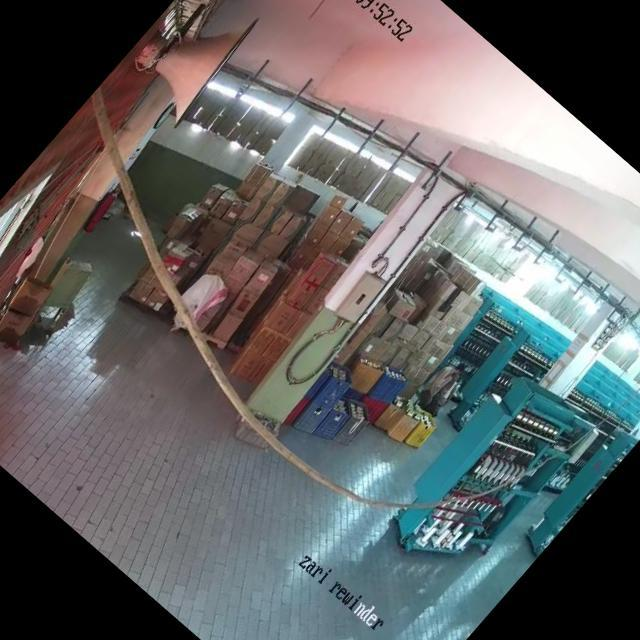person: (415, 355, 467, 412), (424, 370, 468, 416)
